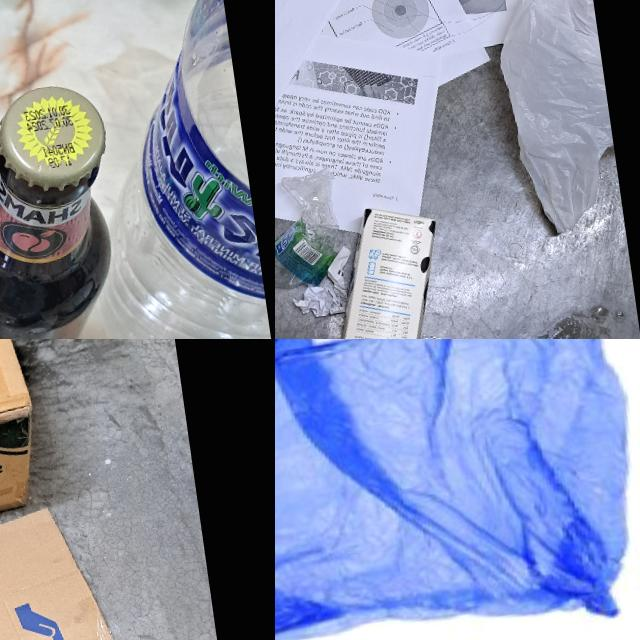caixinha: (301, 200, 461, 339)
garrafa de vidro: (0, 80, 143, 339)
garrafa plástica: (59, 0, 275, 339), (275, 168, 352, 296)
papel: (275, 0, 590, 255), (287, 243, 365, 324)
papelão: (0, 490, 209, 640)
sacola plástica: (275, 339, 640, 640), (485, 0, 626, 241)
